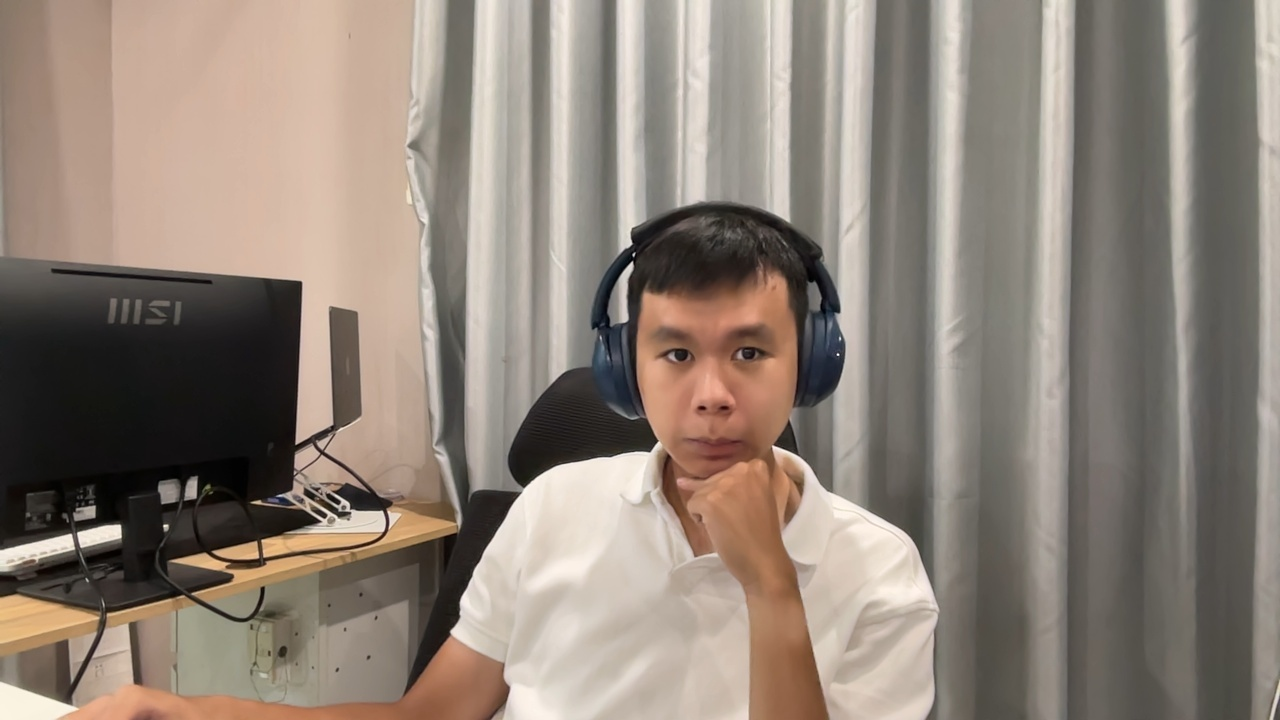over_ear: (588, 202, 847, 425), (588, 201, 848, 423), (588, 204, 759, 425)
